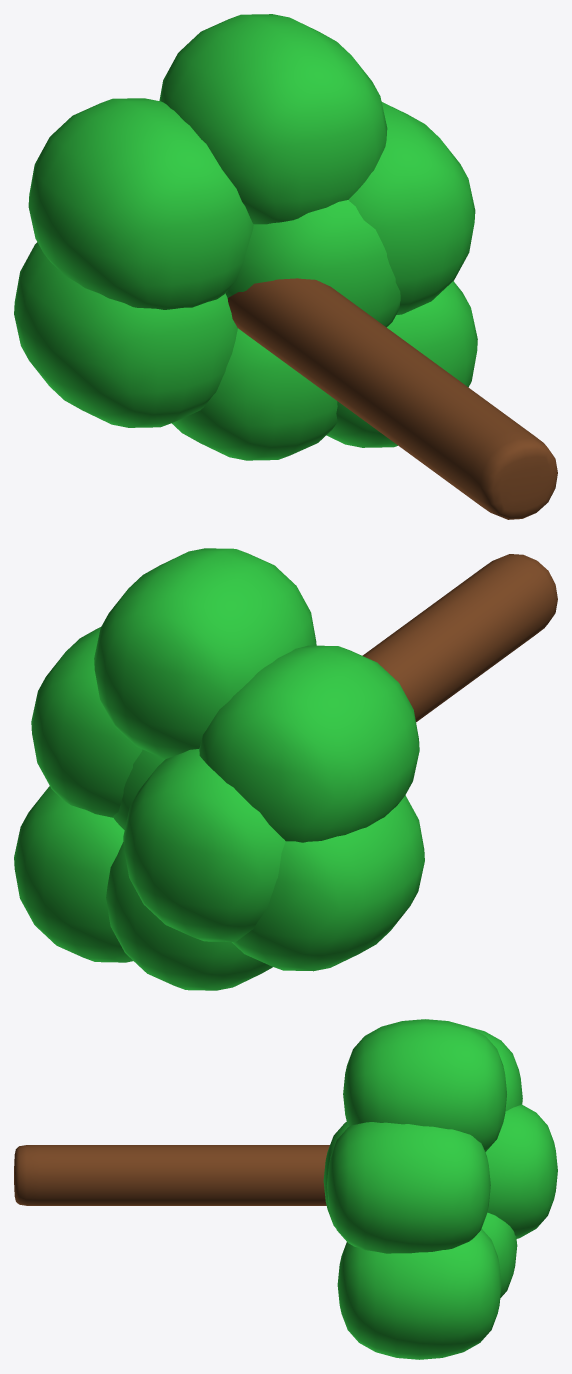
Rendered from tree.fbx.
The picture shows the model from 3 angles, top to bottom: view 1: azimuth 30°, elevation 25°; view 2: azimuth 150°, elevation 25°; view 3: azimuth 270°, elevation 25°; orthographic projection. The views are drawn at different scales.
Parts seen in each view (by area): view 1: Tree; view 2: Tree; view 3: Tree.
Boxes of the visible parts, x1,y1,x2,y2 form: Tree: (14,14,557,519); Tree: (14,548,557,990); Tree: (14,1019,557,1359).
Size of the model in its own units: 4.94 by 5.01 by 8.26.
